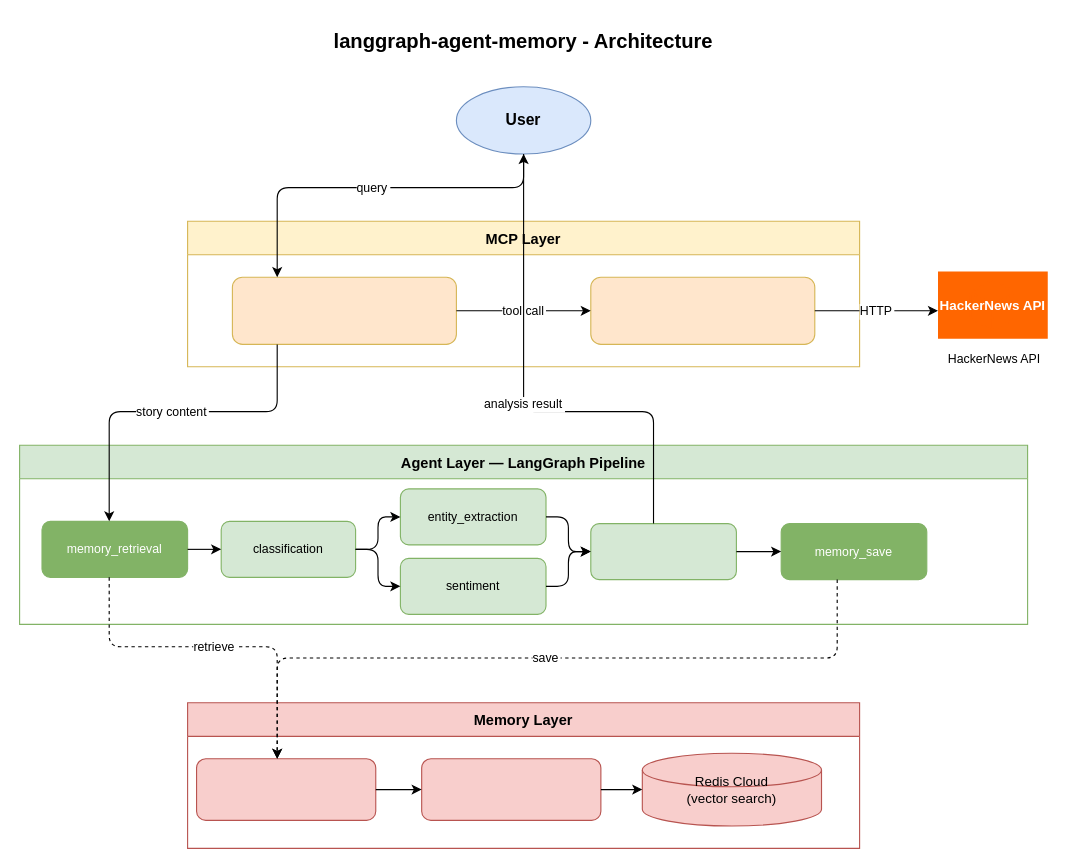
This 1081x868 diagram has some shape labels left out. The shapes that lost their labels are listed below. From the top down, each one's centre as x and y in pixels, then its label:
At pixel 343 310: "MCP Client (LLM decides which tool)".
At pixel 702 310: "MCP Server (HackerNews tools)".
At pixel 663 551: "summarization".
At pixel 285 789: "extractor.py (LLM + chunking)".
At pixel 511 789: "store.py (embed + dedup + retrieve)".
